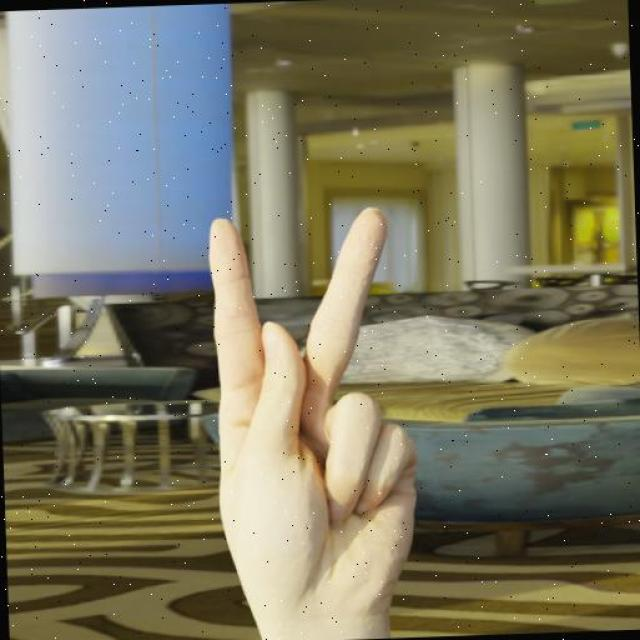K: (208, 203, 424, 604)
